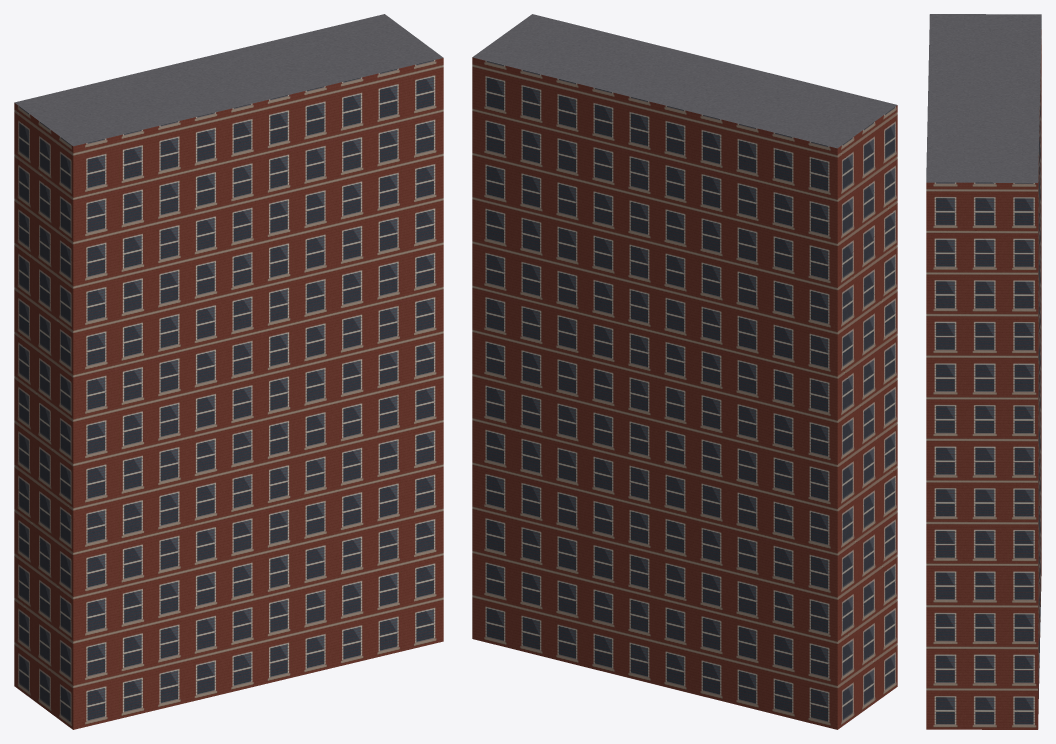
File: bin1016196.glb
3 views of the same model, side by side, from view 1: azimuth 30°, elevation 25°; view 2: azimuth 150°, elevation 25°; view 3: azimuth 270°, elevation 25° (orthographic). The views are drawn at different scales.
Visible parts, largest first — view 1: c2, c4, c19, c12, c14, c17, c0, c1, c3, c9, c10, c15 (+8 smaller); view 2: c17, c19, c2, c4, c15, c16, c14, c18, c9, c7, c0, c12 (+8 smaller); view 3: c12, c14, c10, c11, c13, c19, c4, c9, c17, c7, c15, c16 (+1 smaller).
Part boxes in pixels (bbox=[...]): c2: bbox=[14, 313, 162, 523]; c4: bbox=[14, 86, 162, 260]; c19: bbox=[164, 32, 333, 223]; c12: bbox=[333, 268, 443, 461]; c14: bbox=[308, 14, 443, 198]; c17: bbox=[227, 295, 333, 486]; c0: bbox=[14, 580, 162, 729]; c1: bbox=[14, 480, 162, 623]; c3: bbox=[14, 217, 162, 356]; c9: bbox=[81, 67, 227, 239]; c10: bbox=[333, 535, 443, 667]; c15: bbox=[227, 561, 333, 692]; c17: bbox=[547, 286, 689, 487]; c19: bbox=[547, 41, 745, 225]; c2: bbox=[772, 315, 897, 524]; c4: bbox=[772, 83, 897, 262]; c15: bbox=[547, 552, 689, 692]; c16: bbox=[547, 452, 689, 587]; c14: bbox=[472, 14, 640, 190]; c18: bbox=[547, 190, 689, 321]; c9: bbox=[690, 67, 809, 246]; c7: bbox=[690, 321, 771, 507]; c0: bbox=[772, 581, 897, 729]; c12: bbox=[472, 267, 547, 451]; c12: bbox=[926, 349, 1038, 536]; c14: bbox=[926, 132, 1038, 290]; c10: bbox=[926, 599, 1038, 729]; c11: bbox=[926, 506, 1038, 630]; c13: bbox=[926, 259, 1038, 380]; c19: bbox=[927, 82, 1040, 243]; c4: bbox=[929, 14, 1041, 136]; c9: bbox=[928, 44, 1041, 182]; c17: bbox=[1039, 288, 1040, 489]; c7: bbox=[1040, 242, 1041, 428]; c15: bbox=[1039, 538, 1040, 683]; c16: bbox=[1039, 444, 1040, 583].
Bounding box in the file's own units: 30.49 × 46.03 × 8.82.
3 materials, 3 textured.
